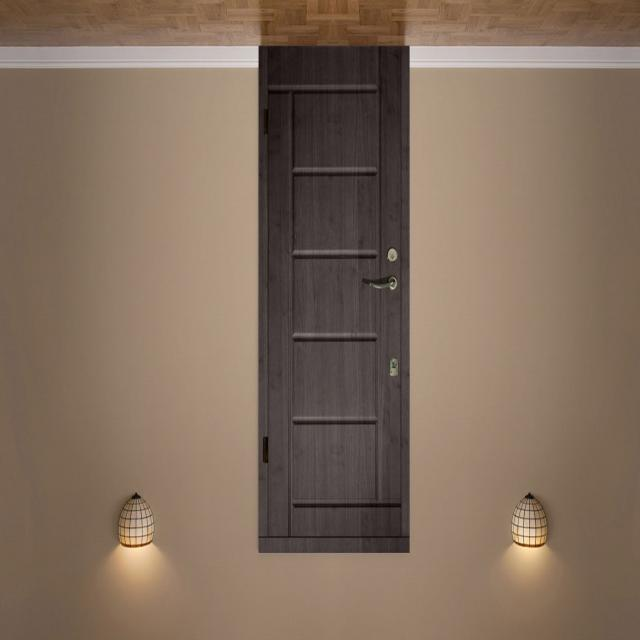close: (255, 58, 408, 554)
